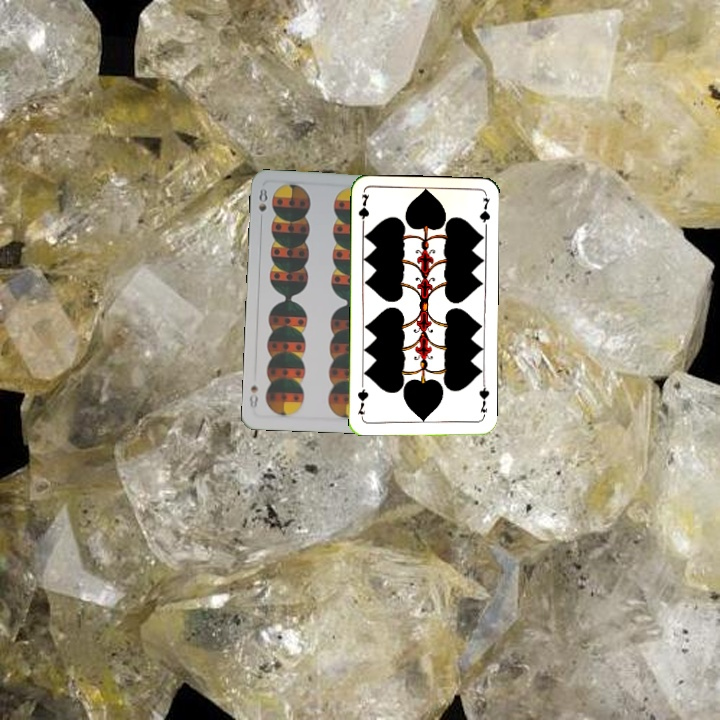G7: (354, 190, 372, 230), (475, 380, 492, 420)
S8: (254, 184, 270, 225)
